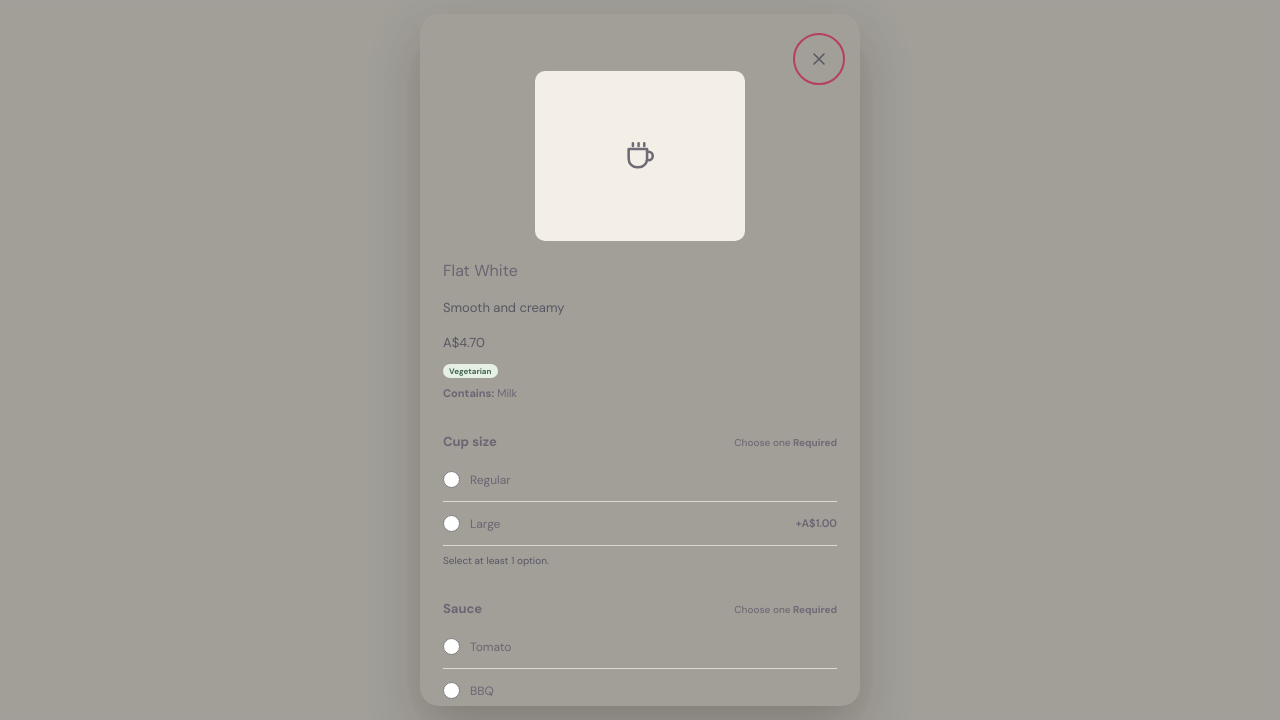
it: ProductModal › keeps a single-select group to exactly one choice
The image size is (1280, 720).
Click the radio button labelled "Regular".
click(452, 480)  # box [443,471,460,488]
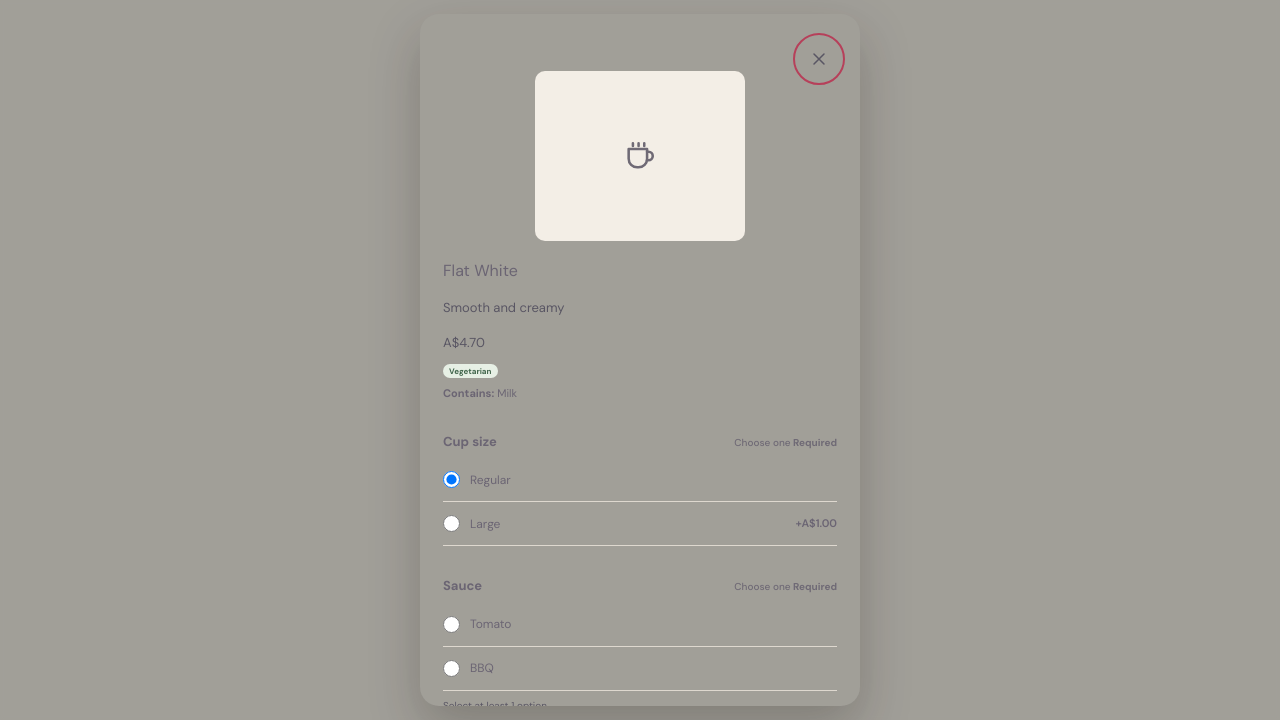
expect the radio button labelled "Regular" is checked: met, box [443,471,460,488]
Click the radio button labelled "Large +A$1.00".
click(452, 524)  # box [443,515,460,532]
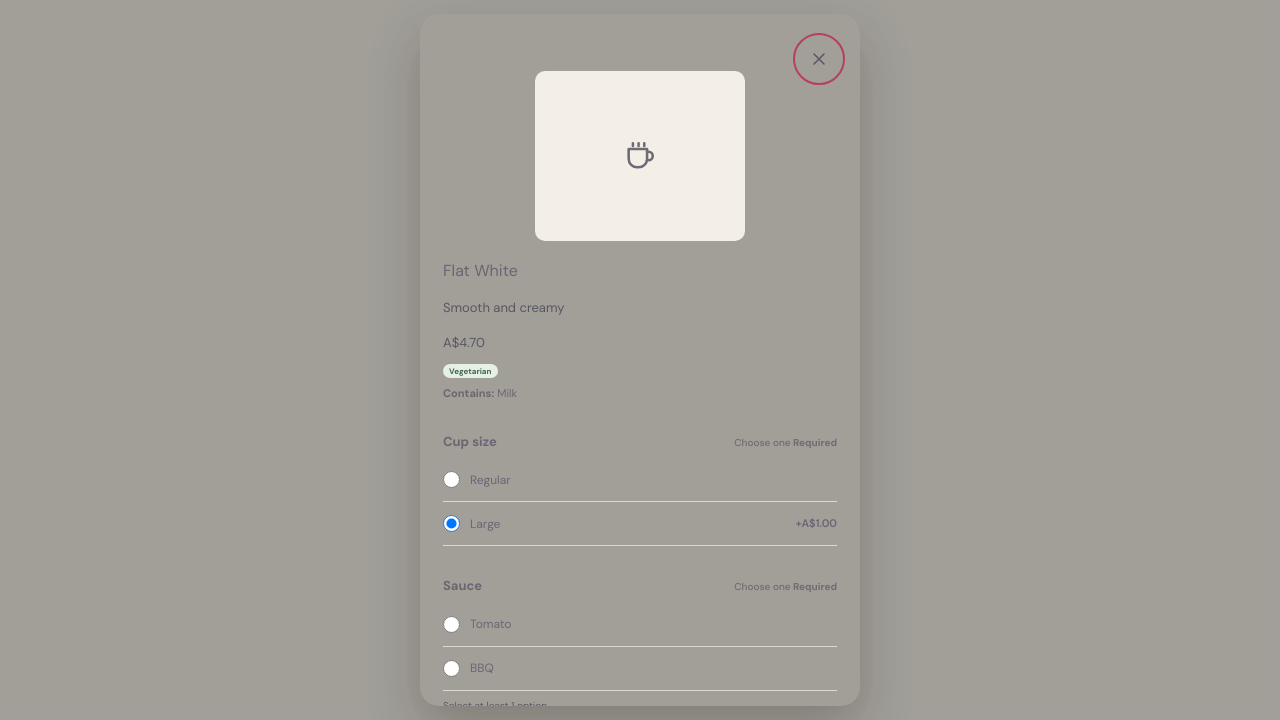
expect the radio button labelled "Large +A$1.00" is checked: met, box [443,515,460,532]
expect the radio button labelled "Regular" is not checked: met, box [443,471,460,488]
